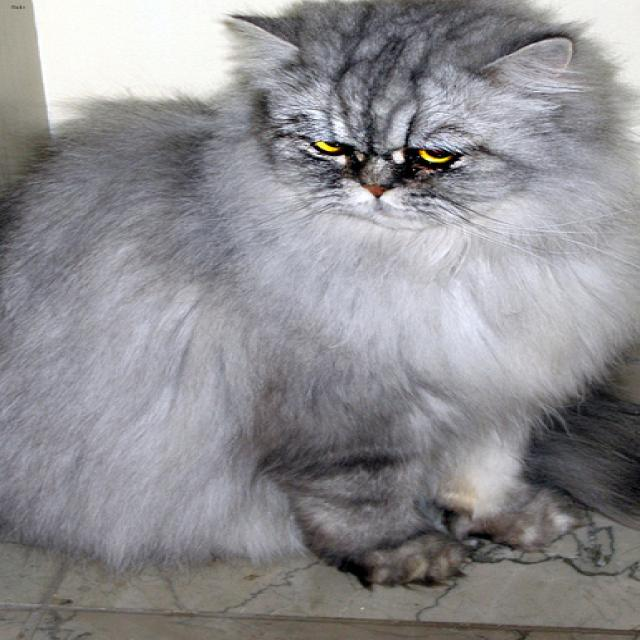cat: (228, 12, 570, 226)
